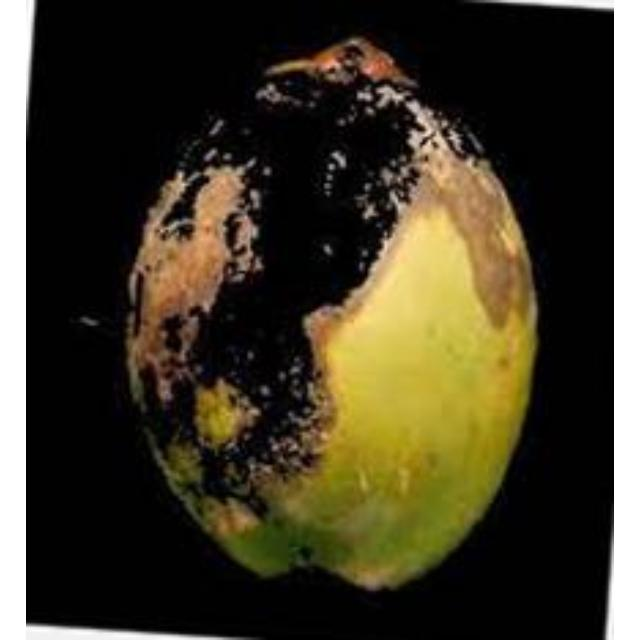damaged: (119, 38, 535, 594)
